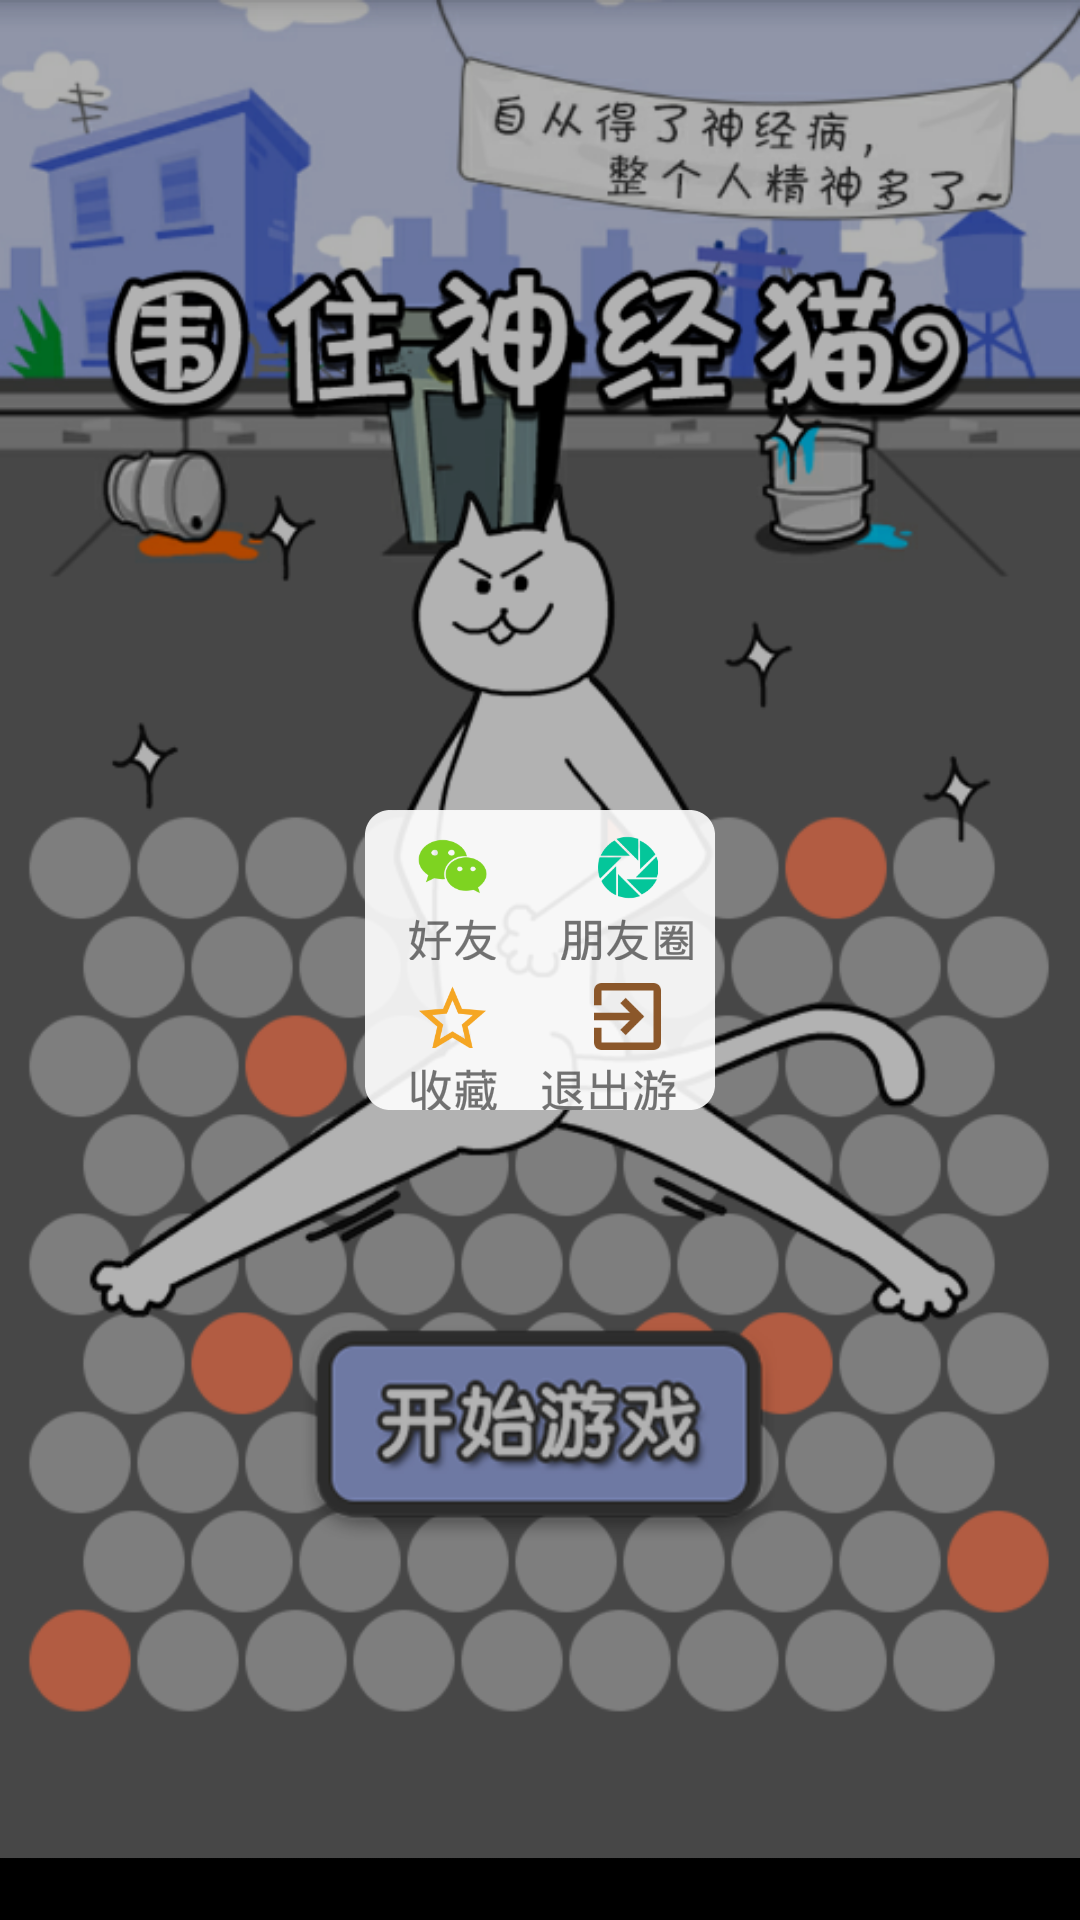button: (320, 1312, 773, 1524)
